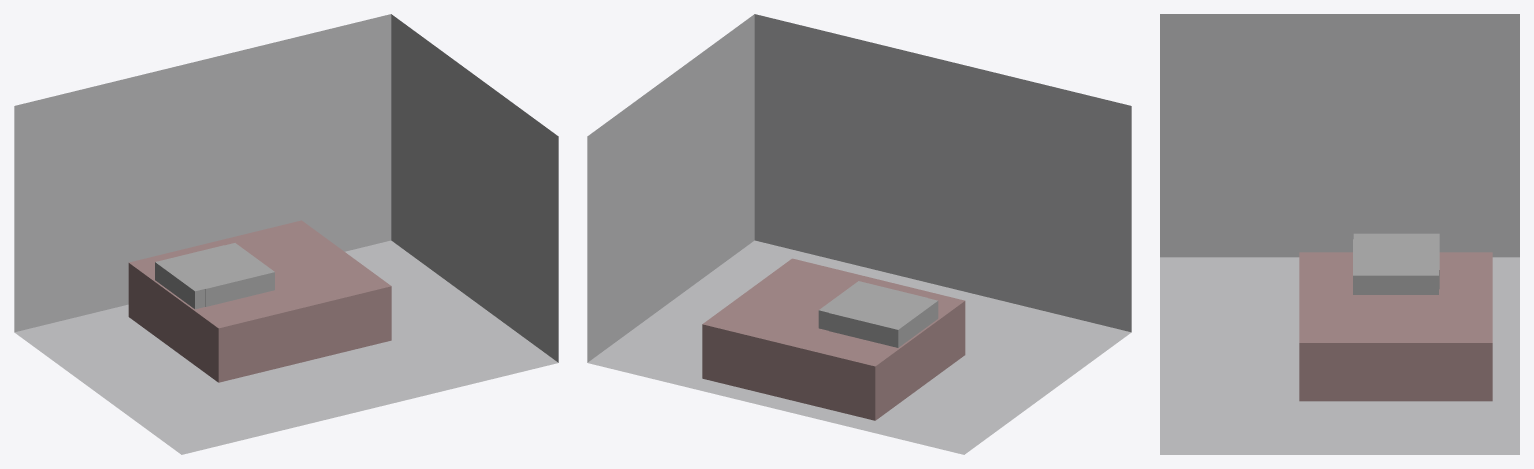
The model's file is optimised_layout.glb.
3 views of the same model, side by side, from view 1: azimuth 30°, elevation 25°; view 2: azimuth 150°, elevation 25°; view 3: azimuth 270°, elevation 25° (orthographic). The views are drawn at different scales.
Parts seen in each view (by area): view 1: room, bed, studyTable, bookShelf; view 2: room, bed, bookShelf, studyTable; view 3: room, bed, studyTable, bookShelf.
Boxes of the visible parts, <box> form: room: <box>14,14,558,454</box>; bed: <box>128,220,391,382</box>; studyTable: <box>167,243,274,306</box>; bookShelf: <box>155,245,263,309</box>; room: <box>587,14,1131,454</box>; bed: <box>702,258,965,420</box>; bookShelf: <box>829,284,938,347</box>; studyTable: <box>818,281,927,330</box>; room: <box>1160,14,1519,454</box>; bed: <box>1299,252,1492,401</box>; studyTable: <box>1353,239,1438,294</box>; bookShelf: <box>1353,233,1439,289</box>.
Size of the model in its own units: 4.36 by 2.5 by 3.35.
